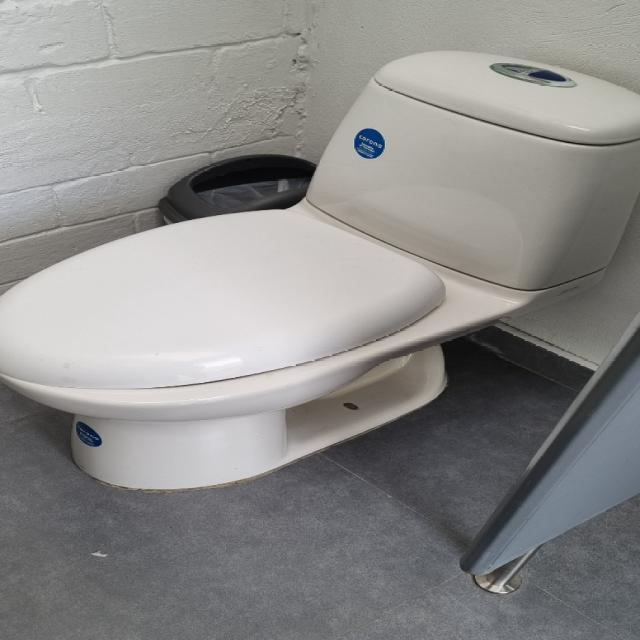toilet: (0, 49, 637, 490)
